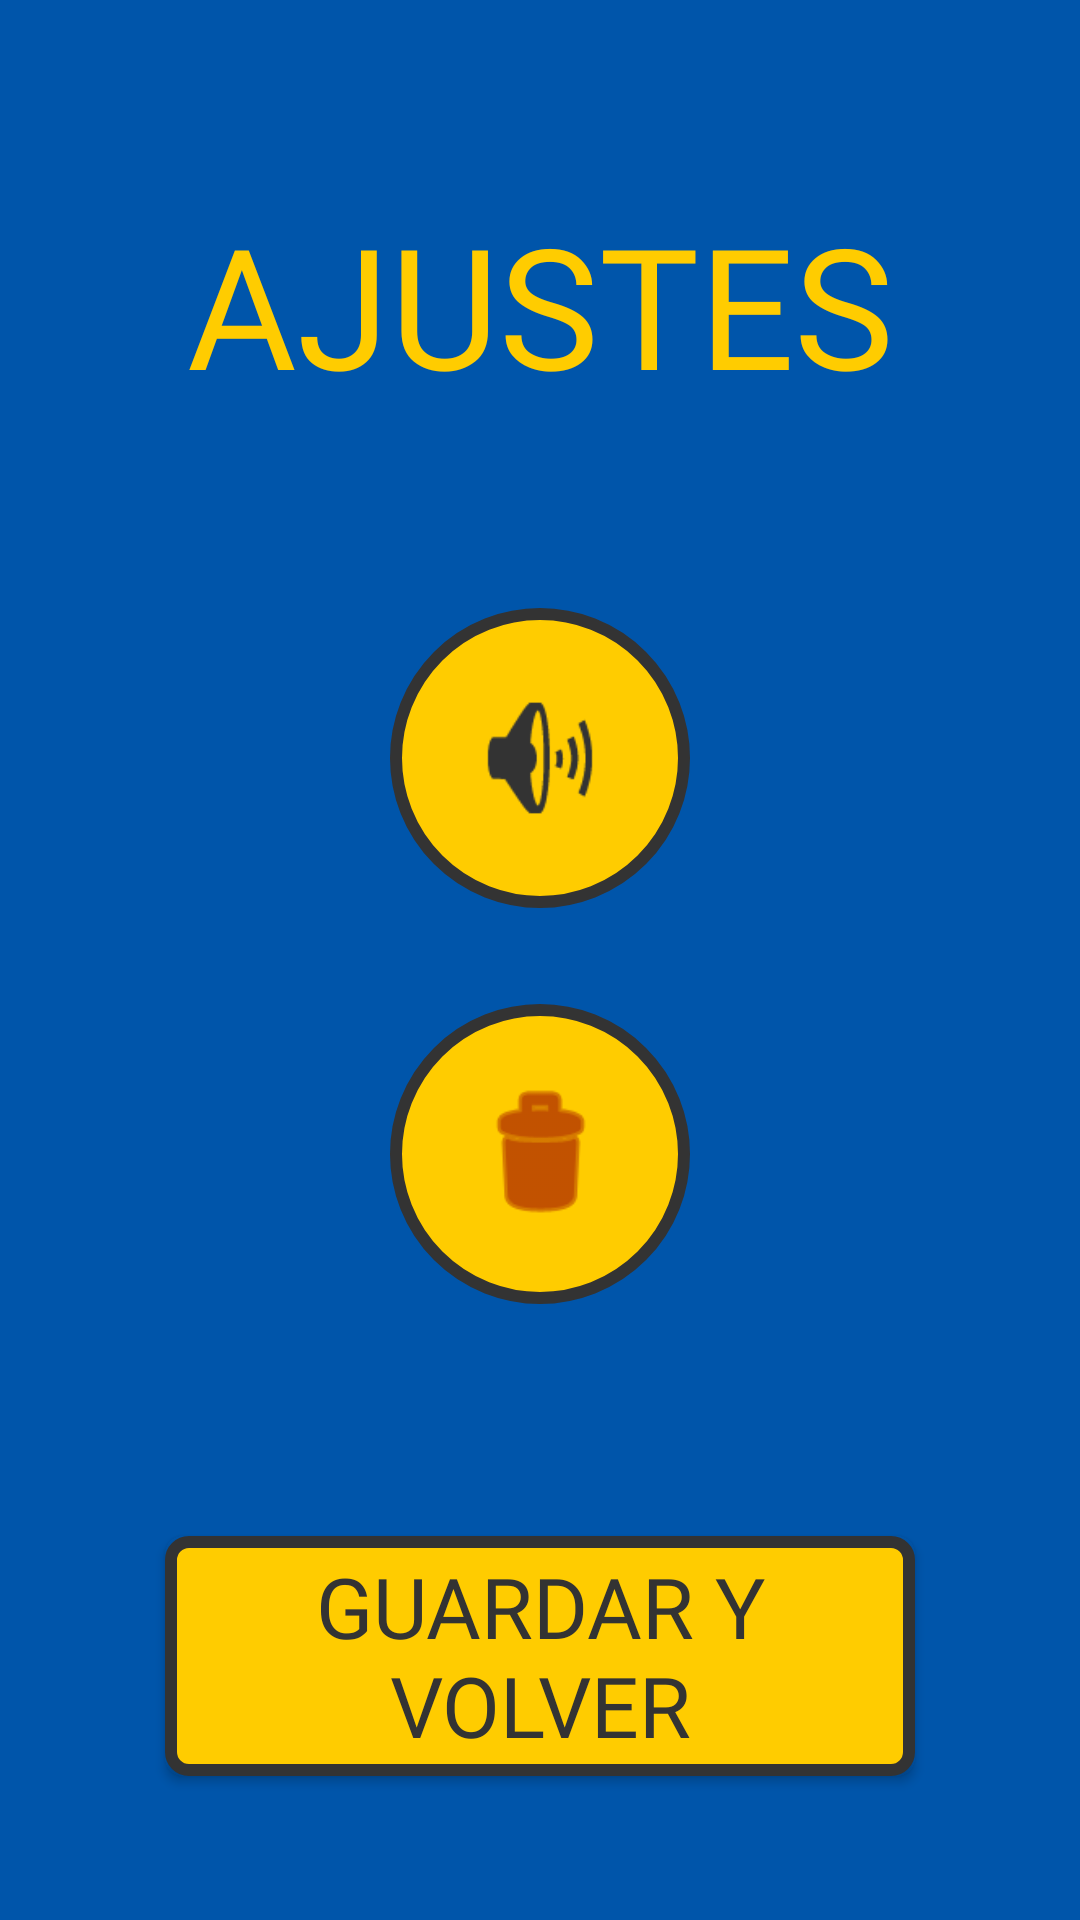

Where to tap for icons on this 1080*1920 app screen, as [x,y]:
delete: [540,1154]
